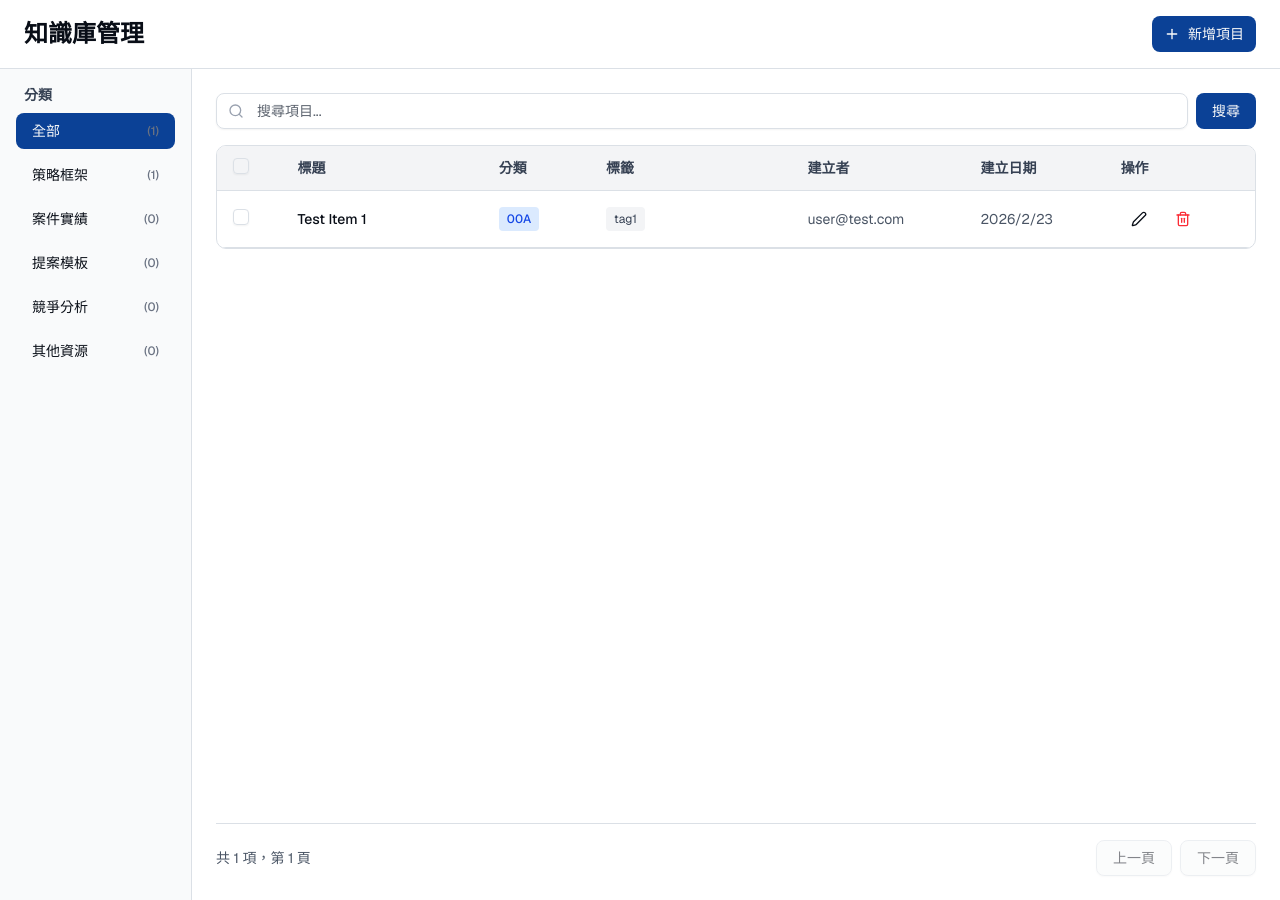
it: KBPage › 新增項目 › 點擊新增按鈕應該開啟對話框
Click the button "新增項目" at (1204, 34), box [1152,16,1256,52]
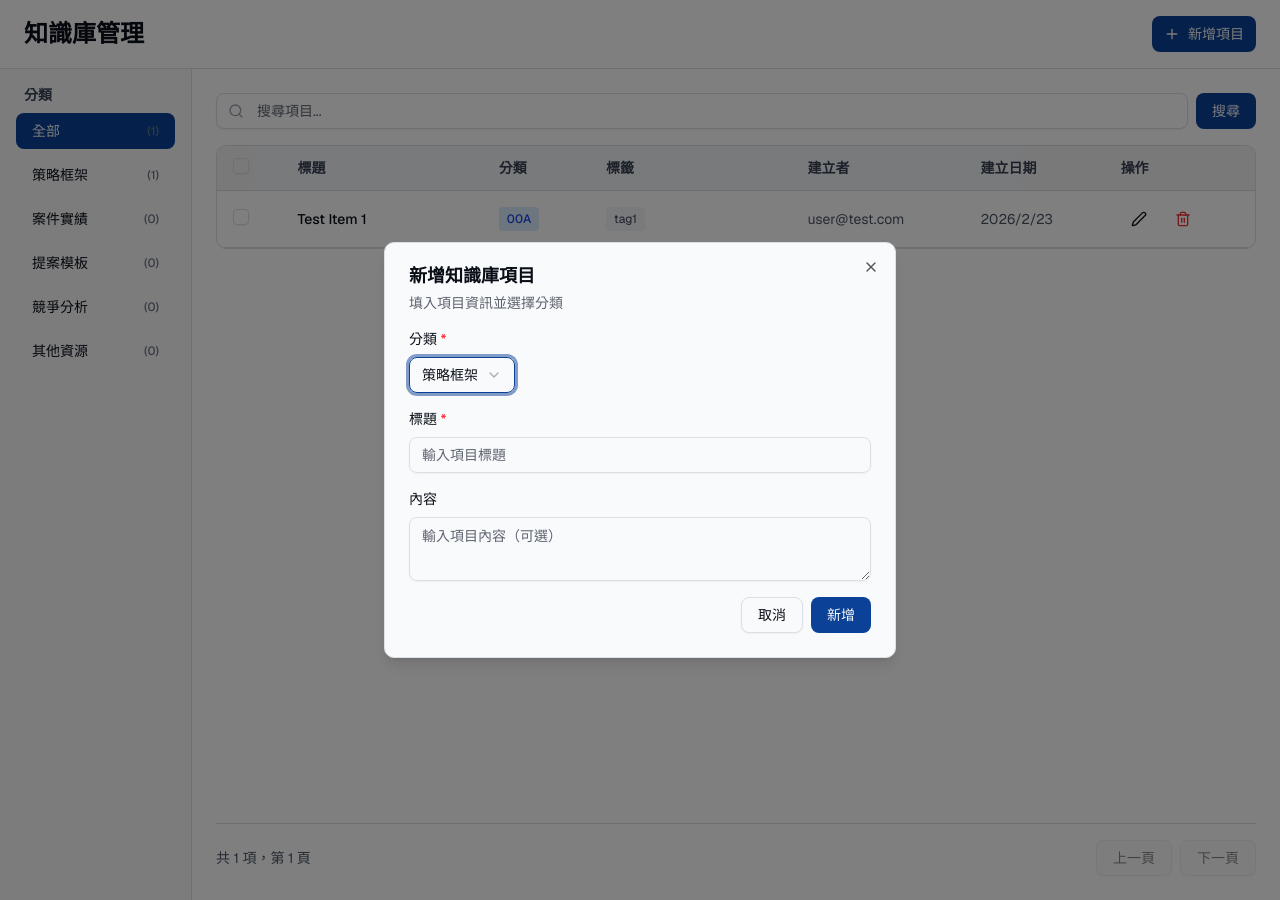
Result: the heading "新增知識庫項目" is shown at [409,264,535,287]
